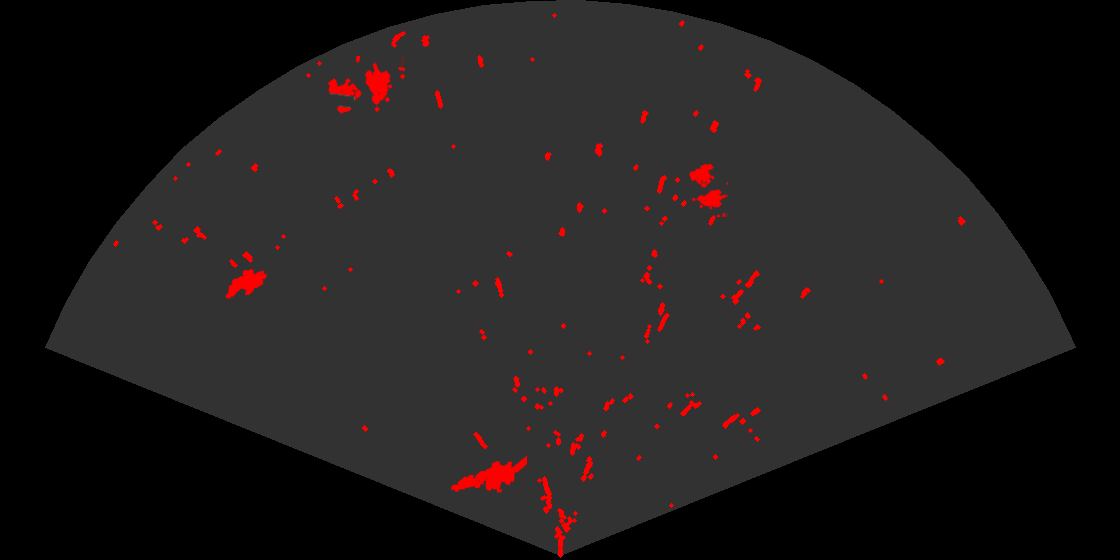AUV: (224, 267, 269, 300)
cage: (326, 56, 405, 115), (687, 162, 728, 217)
frogman: (449, 454, 527, 494)
